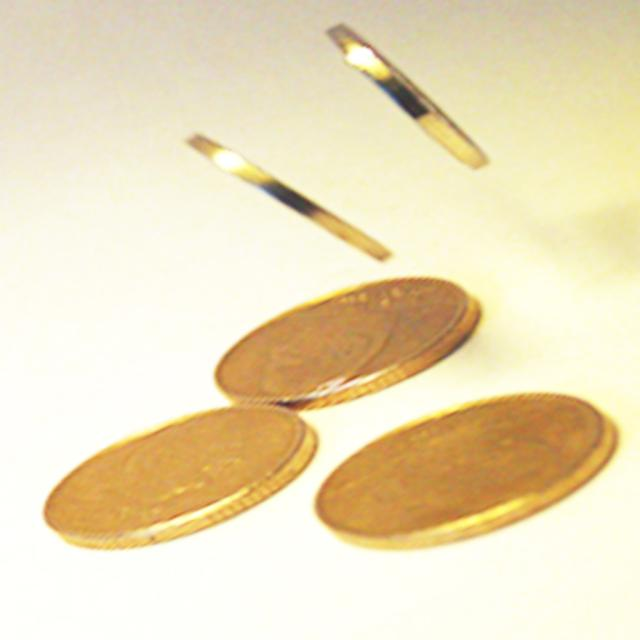Coin: (314, 396, 624, 542), (29, 398, 326, 548), (210, 276, 479, 401), (314, 18, 486, 169), (179, 128, 389, 250)
